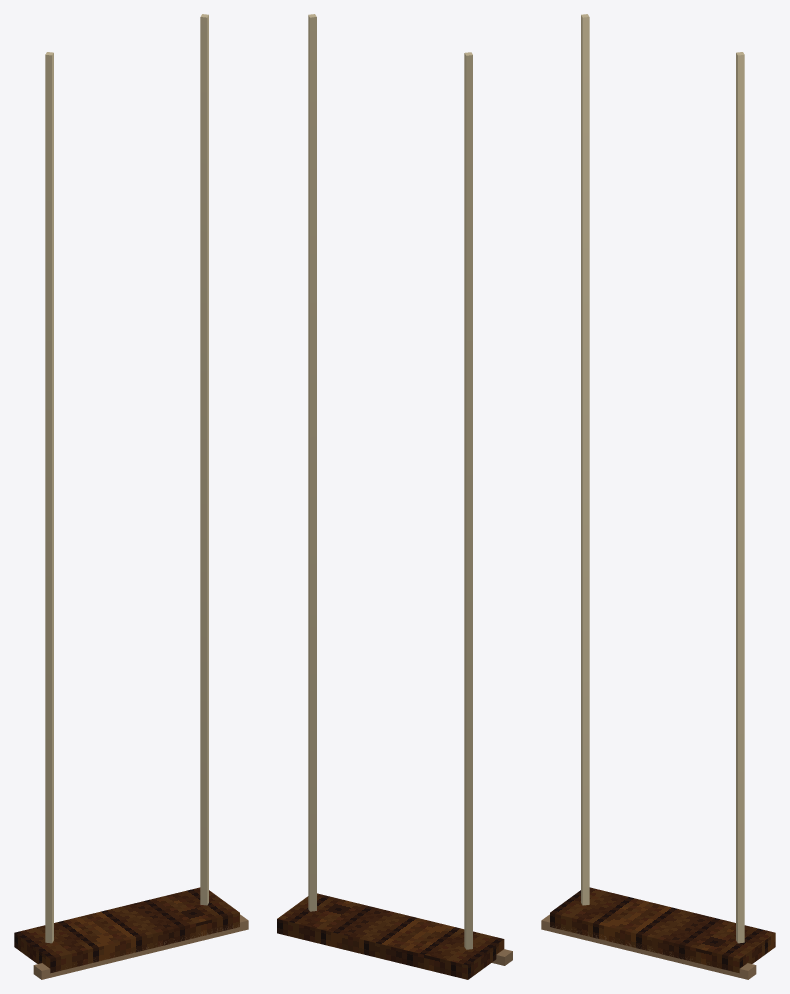
File: rope_swing.glb
The picture shows the model from 3 angles, left to right: view 1: azimuth 30°, elevation 25°; view 2: azimuth 150°, elevation 25°; view 3: azimuth 330°, elevation 25°; orthographic projection.
Visible parts, largest first — view 1: rope_swing; view 2: rope_swing; view 3: rope_swing.
Boxes of the visible parts, x1,y1,x2,y2 form: rope_swing: (14,14,248,979); rope_swing: (277,14,512,979); rope_swing: (541,14,775,979).
Bounding box in the file's own units: 1.2 × 5.03 × 0.36.
2 materials, 1 textured.
